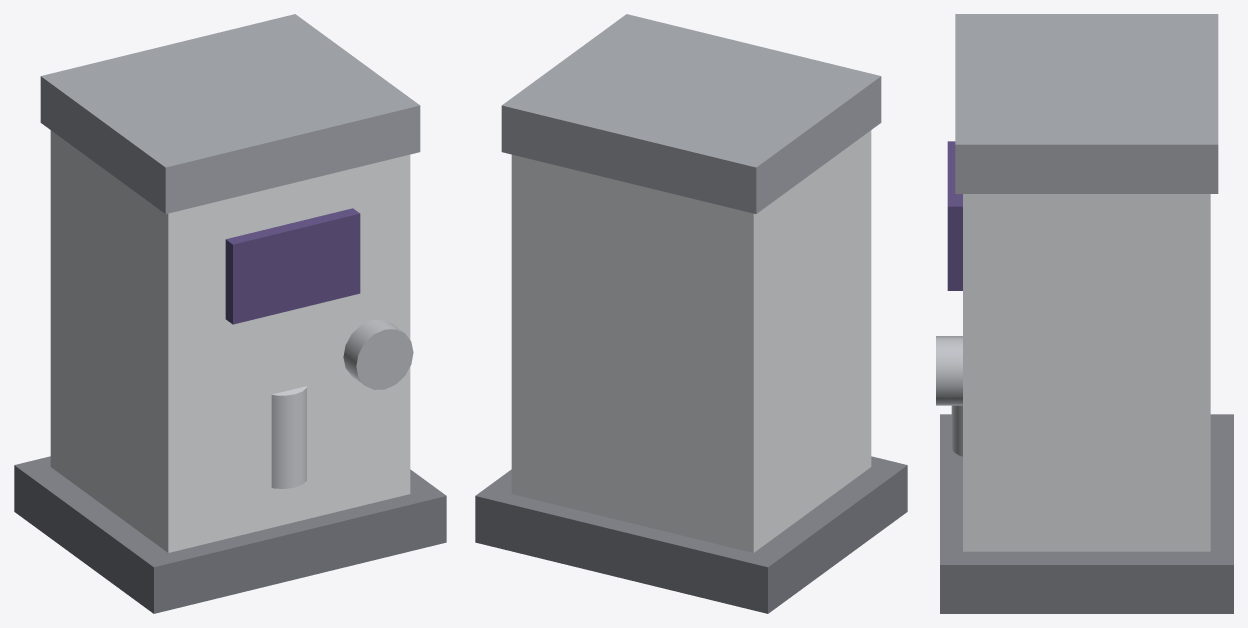
File: retail-product.glb
The picture shows the model from 3 angles, left to right: view 1: azimuth 30°, elevation 25°; view 2: azimuth 150°, elevation 25°; view 3: azimuth 270°, elevation 25°; orthographic projection. The views are drawn at different scales.
Size of the model in its own units: 0.46 by 0.655 by 0.385.
